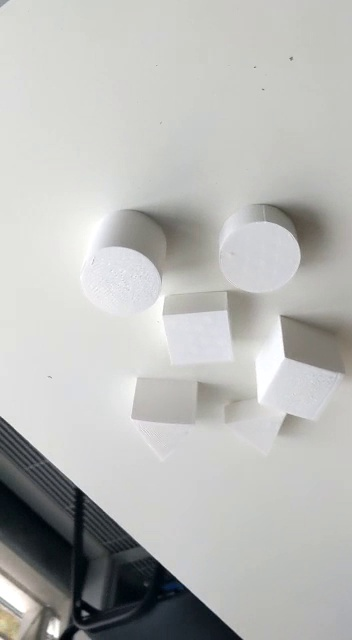Clyinder_short: (215, 201, 305, 295)
Cube: (253, 315, 352, 425)
Cube_short: (159, 289, 238, 370)
Cylinder: (81, 208, 170, 317)
Triangle: (130, 373, 200, 465)
Triangle_short: (221, 390, 291, 457)
